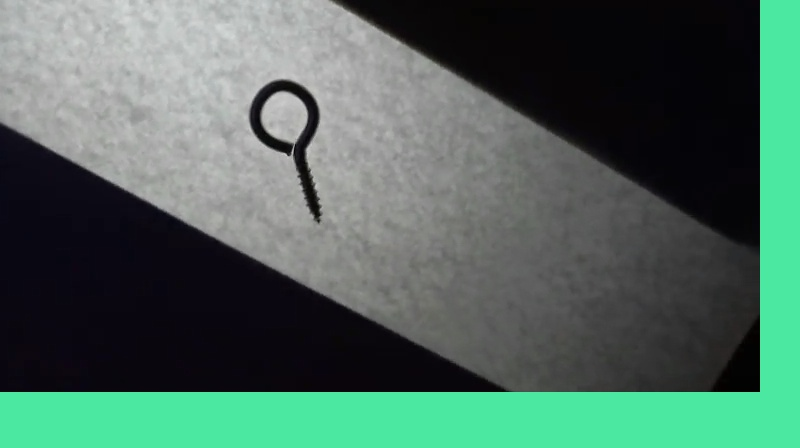O001: (245, 77, 327, 225)
